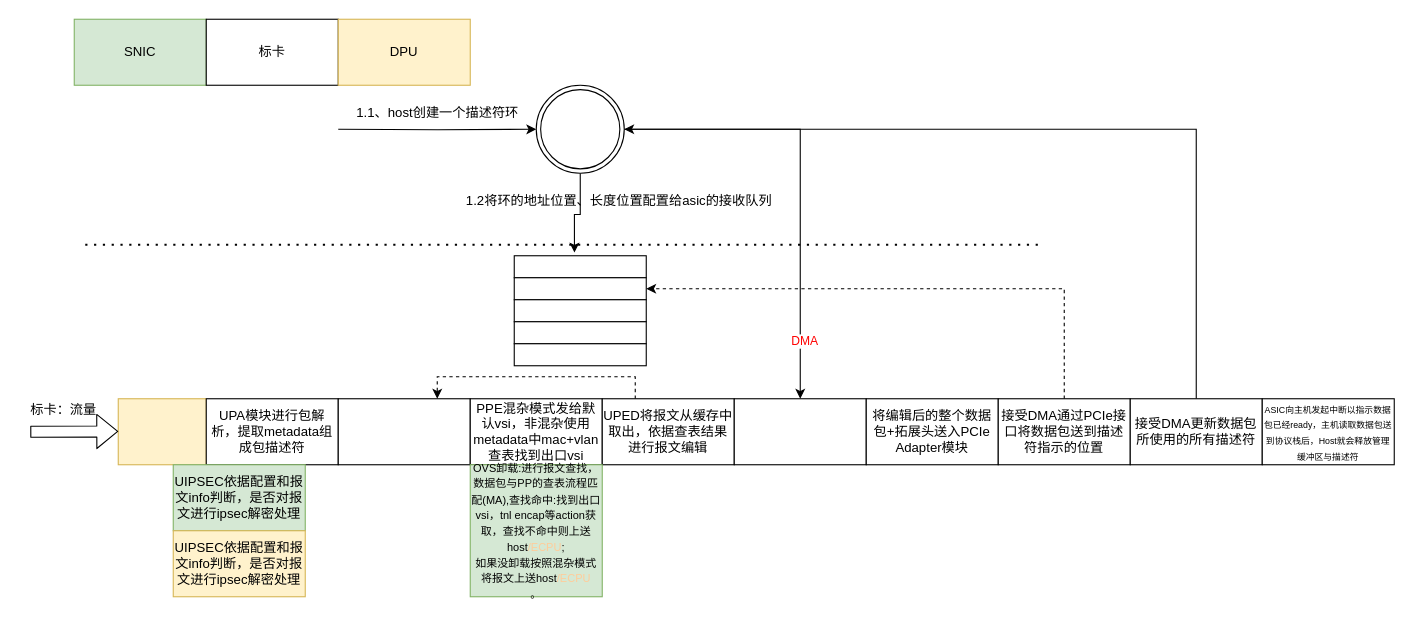
Some shapes in this 1414 by 622 pixel diagram are drawn without their labels. Each missing label, with the centre of its shape:
"RX网卡端口" belongs at pixel 161 431.
"Rx队列" belongs at pixel 579 266.
"USTORE存储报文并将包描述符发给PPE进行filter" belongs at pixel 403 431.
"UVN接受DMA从对应的主机内存环中预取的buffer描述符" belongs at pixel 799 431.
